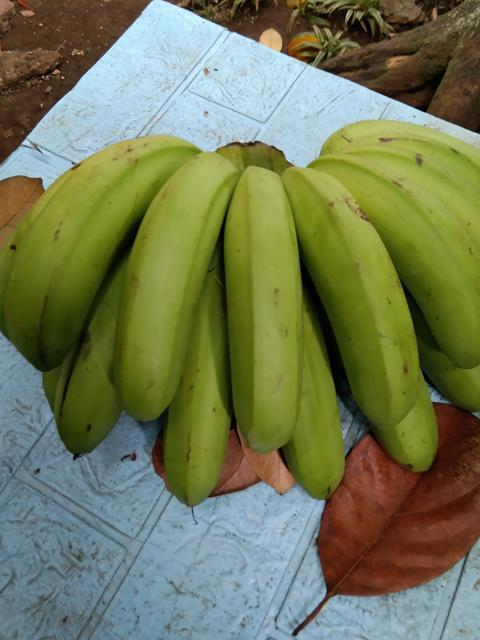freshunripe: (104, 145, 240, 418), (216, 156, 307, 458)
unripe: (0, 123, 193, 367), (289, 159, 427, 432), (36, 311, 151, 463)
